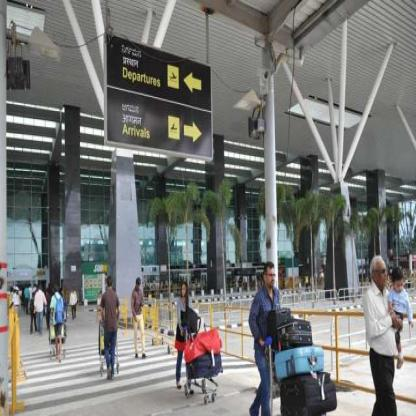airport-trolley: (264, 333, 339, 416), (186, 326, 224, 403), (96, 316, 122, 380), (46, 316, 67, 362)
